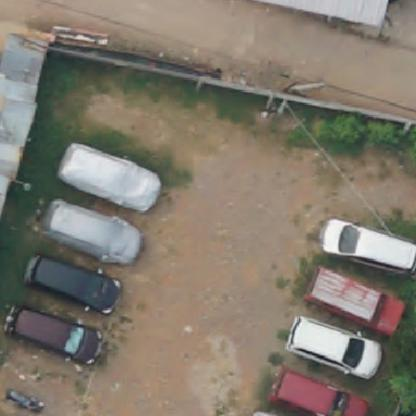car: (39, 199, 144, 271), (60, 143, 166, 214), (8, 300, 111, 365), (313, 268, 409, 336), (287, 315, 383, 383), (27, 252, 122, 317), (319, 219, 415, 276), (273, 362, 375, 415)
motorcycle: (0, 389, 51, 415)
